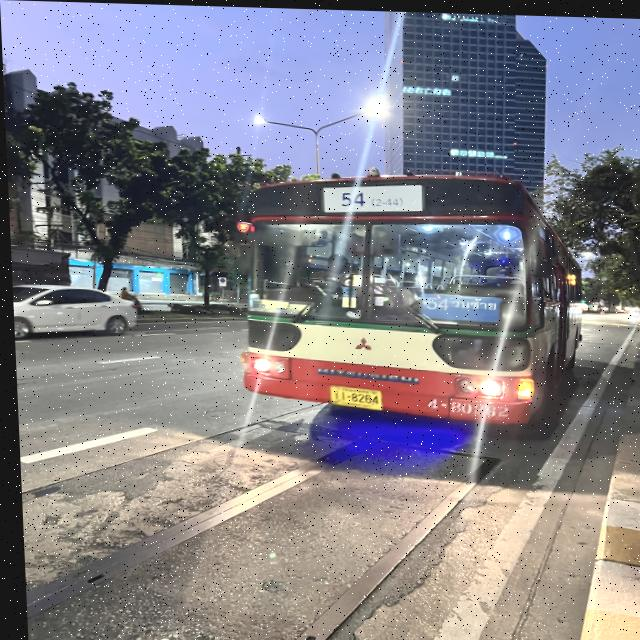BMTA-bus: (231, 167, 586, 436)
Bus-Line-Number: (318, 184, 421, 214)
Destination-Sign-Normal: (414, 288, 506, 322)
